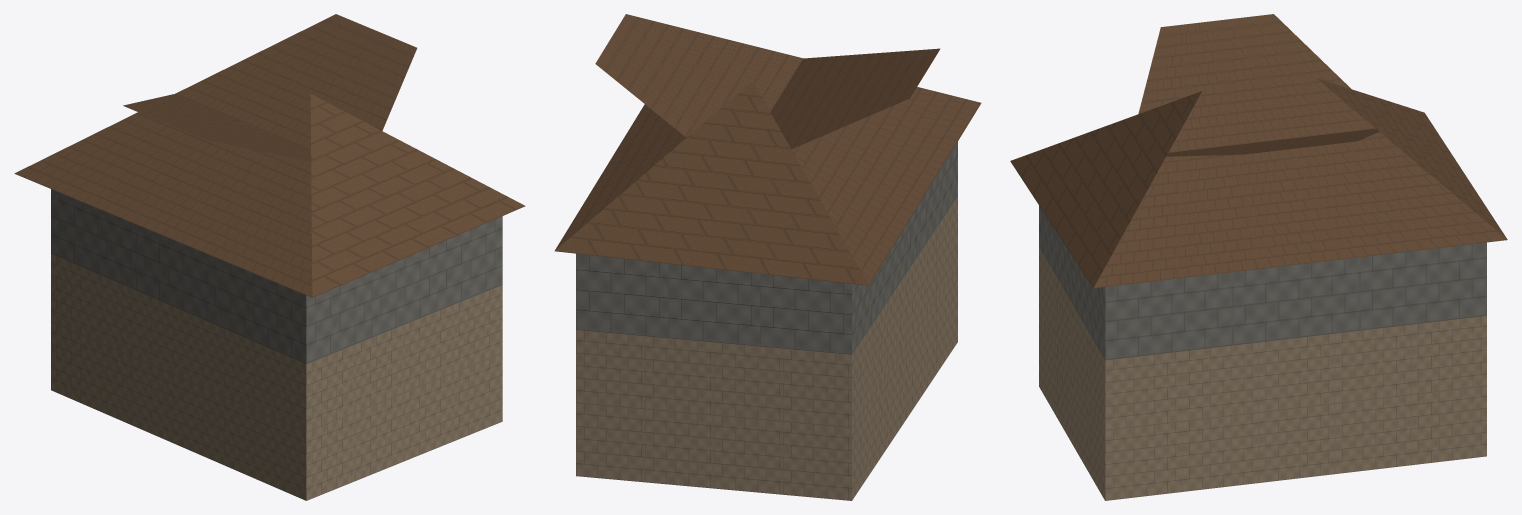
The model's file is bld_c13_12_494.gltf.
3 views of the same model, side by side, from view 1: azimuth 30°, elevation 25°; view 2: azimuth 150°, elevation 25°; view 3: azimuth 270°, elevation 25° (orthographic). The views are drawn at different scales.
Visible parts, largest first — view 1: bld_c13_12_494; view 2: bld_c13_12_494; view 3: bld_c13_12_494.
Part boxes in pixels (box(x1,y1,x2,y2)): bld_c13_12_494: box(14, 14, 525, 500); bld_c13_12_494: box(554, 14, 981, 500); bld_c13_12_494: box(1010, 14, 1507, 500).
Bounding box in the file's own units: 12.26 × 10.98 × 14.67.
Materials: 3 (3 with a texture image).
